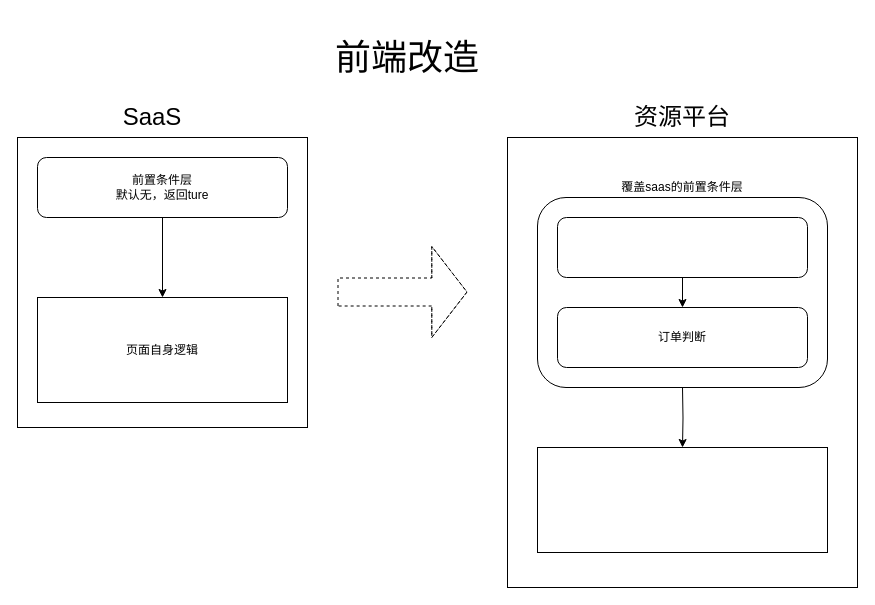
Image size: 875x605. Some labels were removed from this diagram. The box of each missing label's shape, as (x1, y1, x2, y2) in pixels:
原有页面自身逻辑: (536, 446, 828, 552)
用户自动注册: (556, 216, 808, 278)
